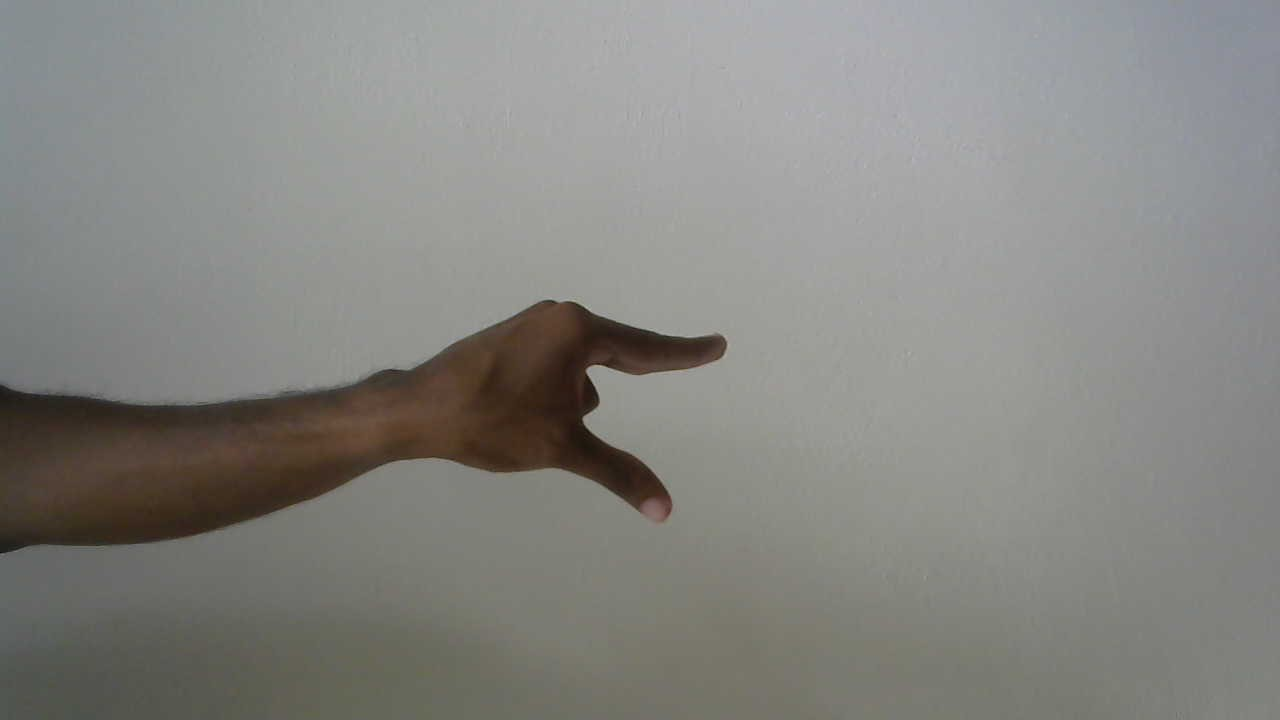no: (392, 285, 756, 535)
